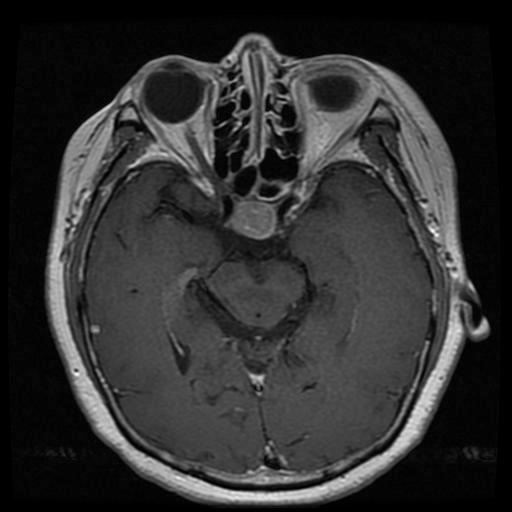Tumour-Pituitary: (234, 205, 281, 246)
